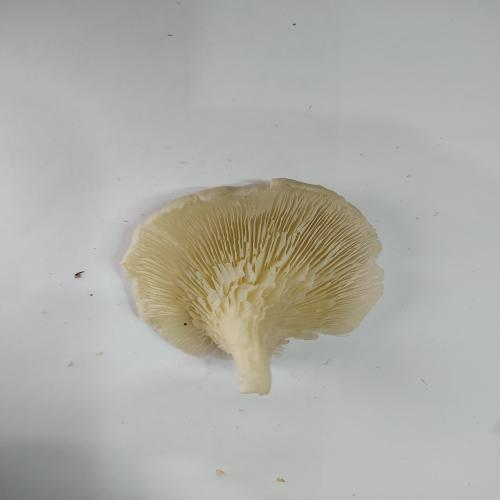Oyster Mushroom: (119, 177, 385, 396)
